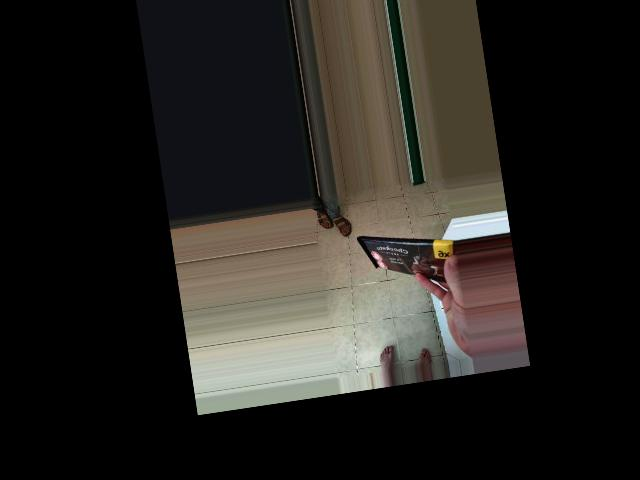chocolate: (333, 220, 427, 330)
